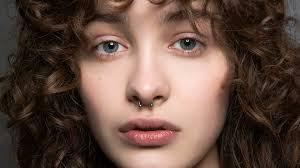face: (80, 1, 230, 167)
